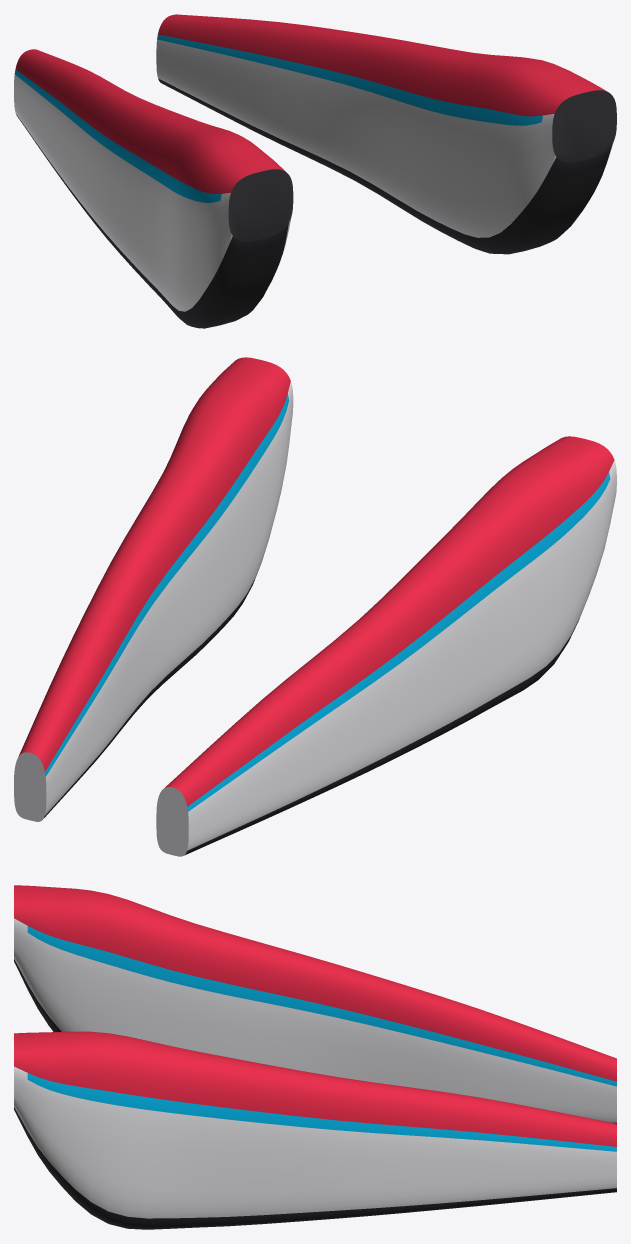
The model's file is slim.glb.
3 views of the same model, one above another, from view 1: azimuth 30°, elevation 25°; view 2: azimuth 150°, elevation 25°; view 3: azimuth 270°, elevation 25° (orthographic). The views are drawn at different scales.
Parts seen in each view (by area): view 1: Sidepods_slim; view 2: Sidepods_slim; view 3: Sidepods_slim.
Boxes of the visible parts, <box> form: Sidepods_slim: <box>14,14,616,328</box>; Sidepods_slim: <box>14,357,616,856</box>; Sidepods_slim: <box>14,885,616,1229</box>.
Bounding box in the file's own units: 1.22 × 0.6028 × 1.72.
